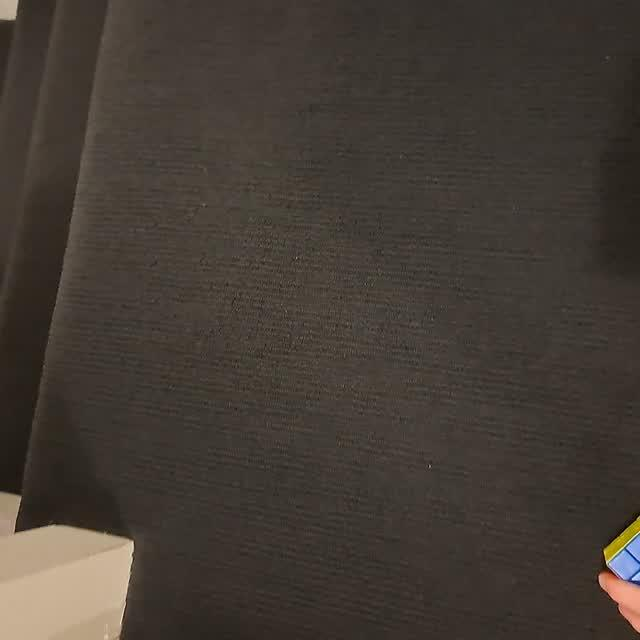rubix_cube: (601, 506, 640, 607)
